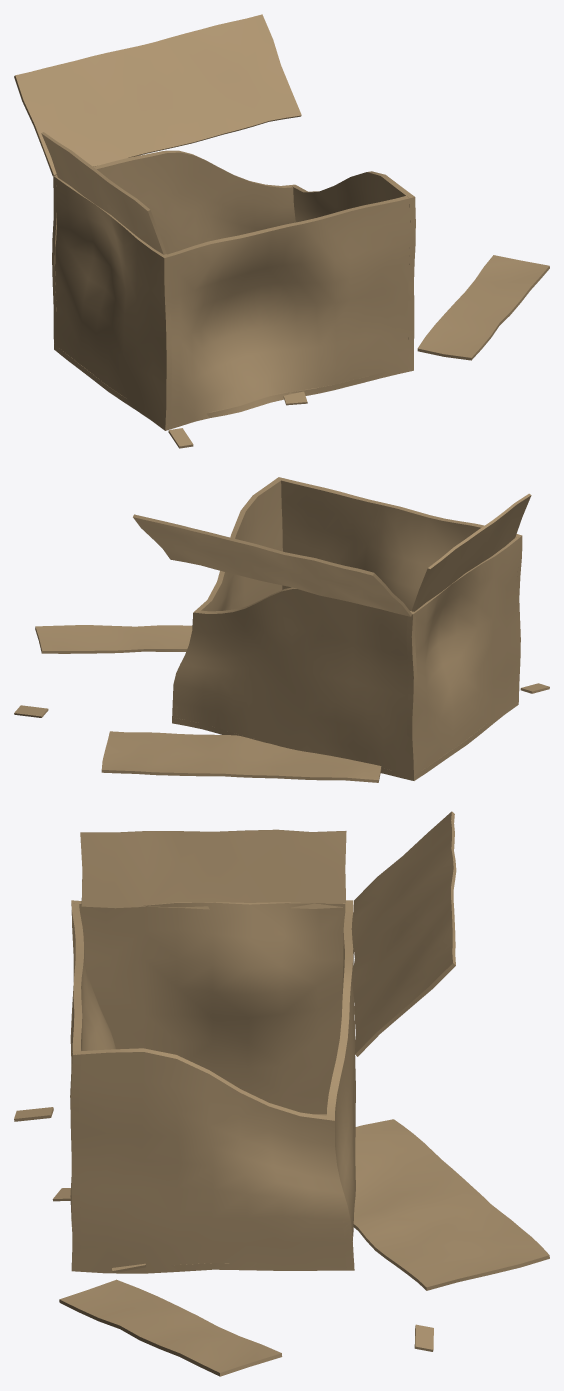
The model's file is cardboard_box_broken.fbx.
The picture shows the model from 3 angles, top to bottom: view 1: azimuth 30°, elevation 25°; view 2: azimuth 150°, elevation 25°; view 3: azimuth 270°, elevation 25°; orthographic projection. The views are drawn at different scales.
Parts seen in each view (by area): view 1: cardboard_box_broken, cardboard_box_flapB, cardboard_box_flapR, cardboard_box_flapL, cardboard_box_debris; view 2: cardboard_box_broken, cardboard_box_flapF, cardboard_box_flapB, cardboard_box_flapR, cardboard_box_flapL, cardboard_box_debris; view 3: cardboard_box_broken, cardboard_box_flapL, cardboard_box_flapF, cardboard_box_flapB, cardboard_box_flapR, cardboard_box_debris.
Boxes of the visible parts, x1,y1,x2,y2 form: cardboard_box_broken: (52,150,415,430); cardboard_box_flapB: (14,14,301,175); cardboard_box_flapR: (417,255,549,360); cardboard_box_flapL: (41,132,166,254); cardboard_box_debris: (168,391,307,448); cardboard_box_broken: (172,477,522,780); cardboard_box_flapF: (101,731,381,782); cardboard_box_flapB: (133,514,411,616); cardboard_box_flapR: (35,625,192,653); cardboard_box_flapL: (411,493,531,611); cardboard_box_debris: (14,683,549,717); cardboard_box_broken: (70,900,355,1273); cardboard_box_flapL: (80,829,346,909); cardboard_box_flapF: (353,1119,549,1290); cardboard_box_flapB: (352,811,456,1056); cardboard_box_flapR: (59,1279,282,1376); cardboard_box_debris: (14,1107,433,1351).
Size of the model in its own units: 83.01 by 42.84 by 66.82.
